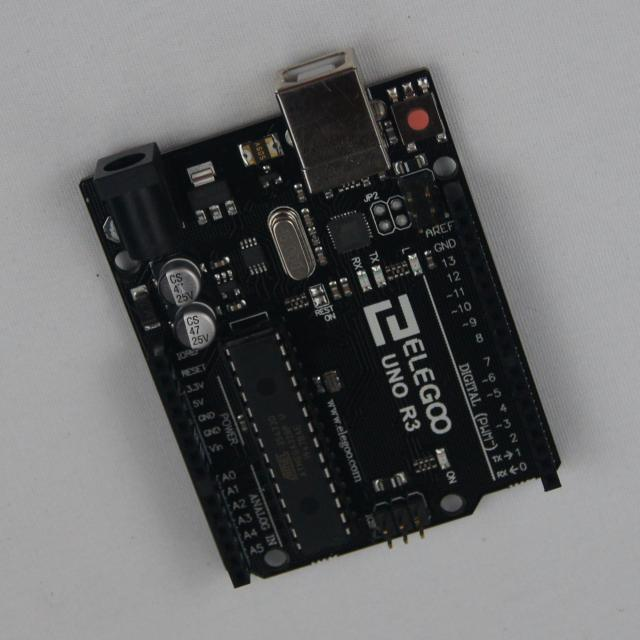Arduino Uno -Black-: (81, 53, 560, 587)
